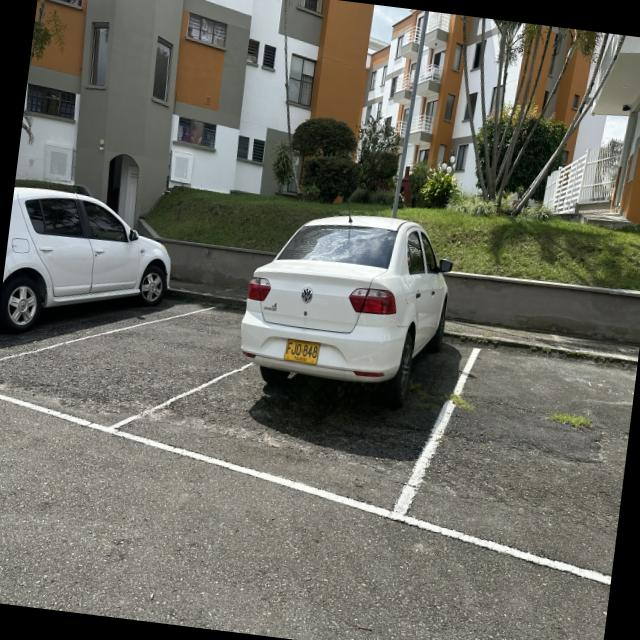number plate: (283, 339, 319, 364)
